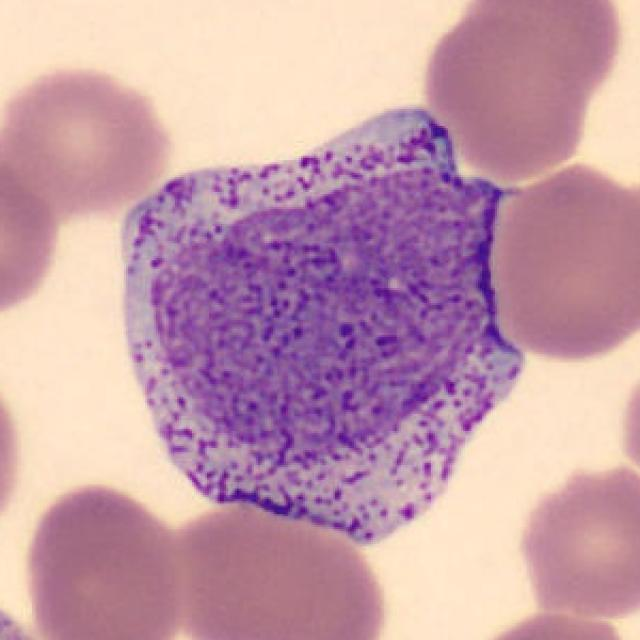White Blood Cell: (125, 109, 521, 541), (125, 110, 521, 539)
